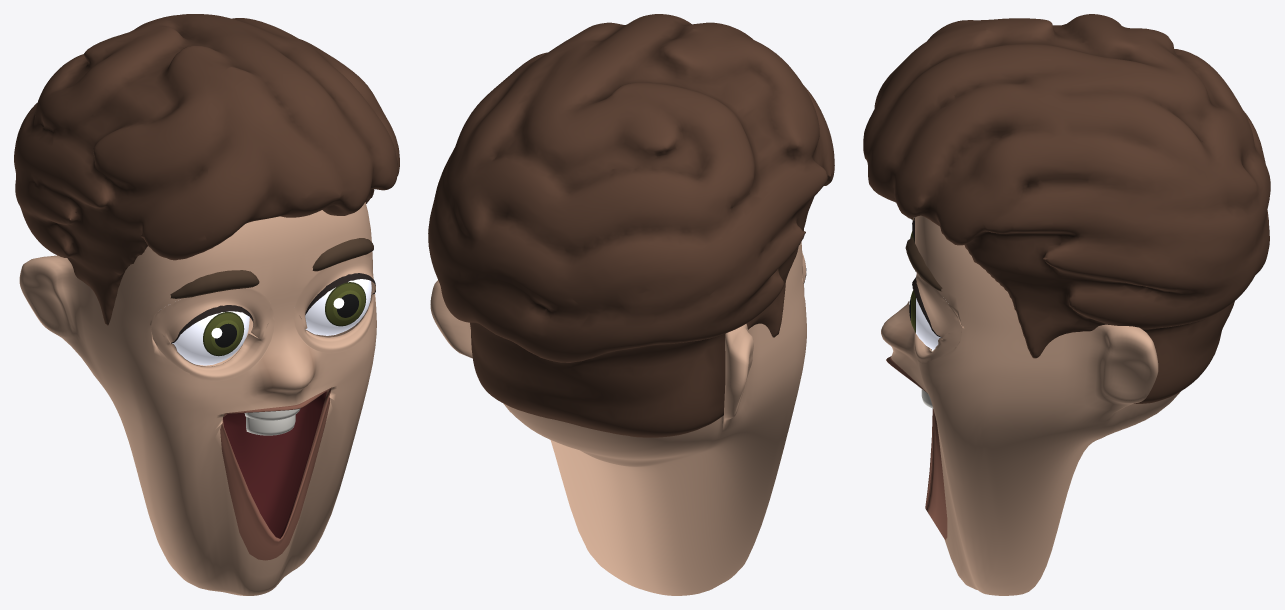
The model's file is avatar-joven.glb.
3 views of the same model, side by side, from view 1: azimuth 30°, elevation 25°; view 2: azimuth 150°, elevation 25°; view 3: azimuth 270°, elevation 25° (orthographic). The views are drawn at different scales.
Visible parts, largest first — view 1: Hair, Head, Lids, Eye_R, Eye_L, Brows, Mouth; view 2: Hair, Head; view 3: Hair, Head, Lids, Eye_L, Brows.
Boxes of the visible parts, x1=… form: Hair: x1=14, y1=14, x2=399, y2=325; Head: x1=19, y1=202, x2=376, y2=595; Lids: x1=151, y1=253, x2=375, y2=381; Eye_R: x1=172, y1=311, x2=249, y2=365; Eye_L: x1=305, y1=279, x2=371, y2=335; Brows: x1=170, y1=238, x2=373, y2=298; Mouth: x1=244, y1=408, x2=300, y2=435; Hair: x1=428, y1=14, x2=834, y2=437; Head: x1=430, y1=241, x2=806, y2=595; Hair: x1=863, y1=14, x2=1270, y2=403; Head: x1=881, y1=215, x2=1180, y2=595; Lids: x1=912, y1=217, x2=961, y2=363; Eye_L: x1=909, y1=290, x2=940, y2=349; Brows: x1=905, y1=217, x2=942, y2=291.
Bounding box in the file's own units: 1.76 × 2.92 × 1.98.
